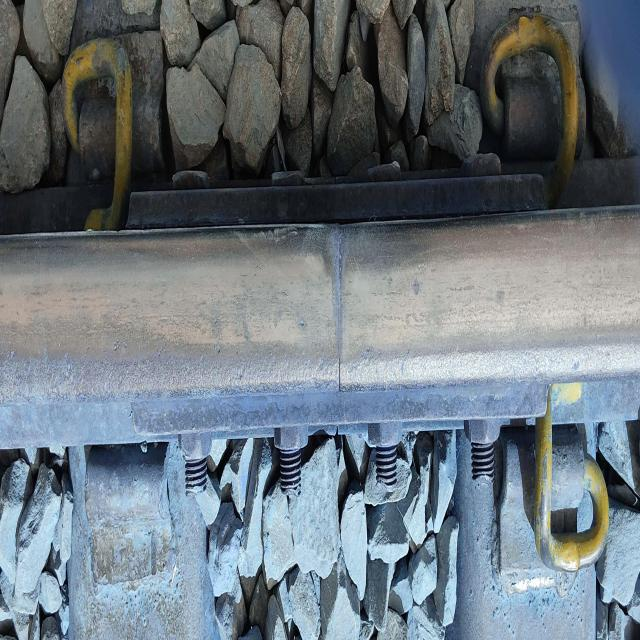Good Fasteners: (499, 385, 619, 629), (55, 23, 171, 235), (478, 0, 583, 209)
Missing Fastener: (70, 442, 200, 640)
